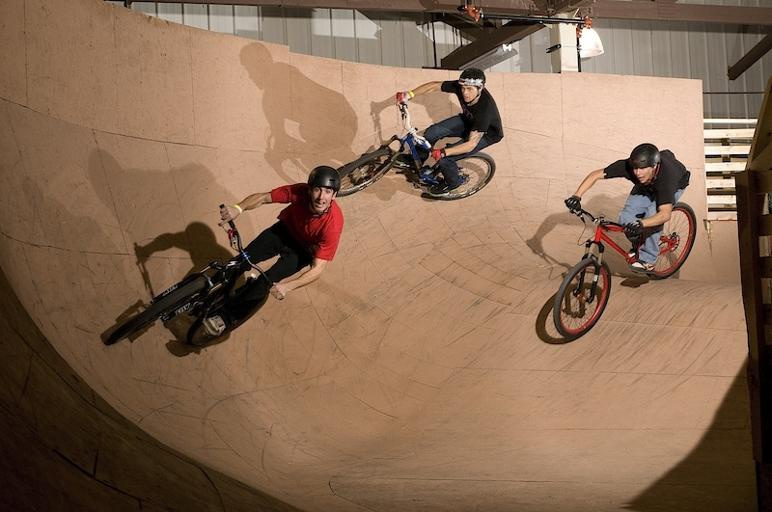non-vehicle: (104, 201, 288, 350), (551, 198, 699, 341), (333, 89, 494, 200)
